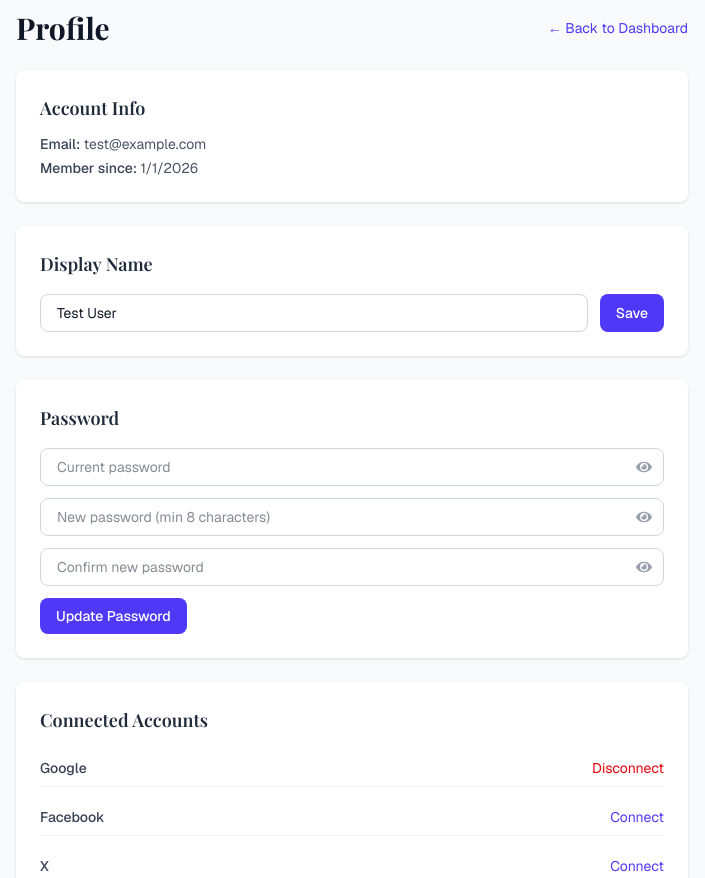
it: ProfilePage › clears name message when typing
Check: the field with placeholder "Your display name" is shown, box top-left (40, 294), bottom-right (588, 332)
Click the button "Save" at (632, 313), box top-left (600, 294), bottom-right (664, 332)
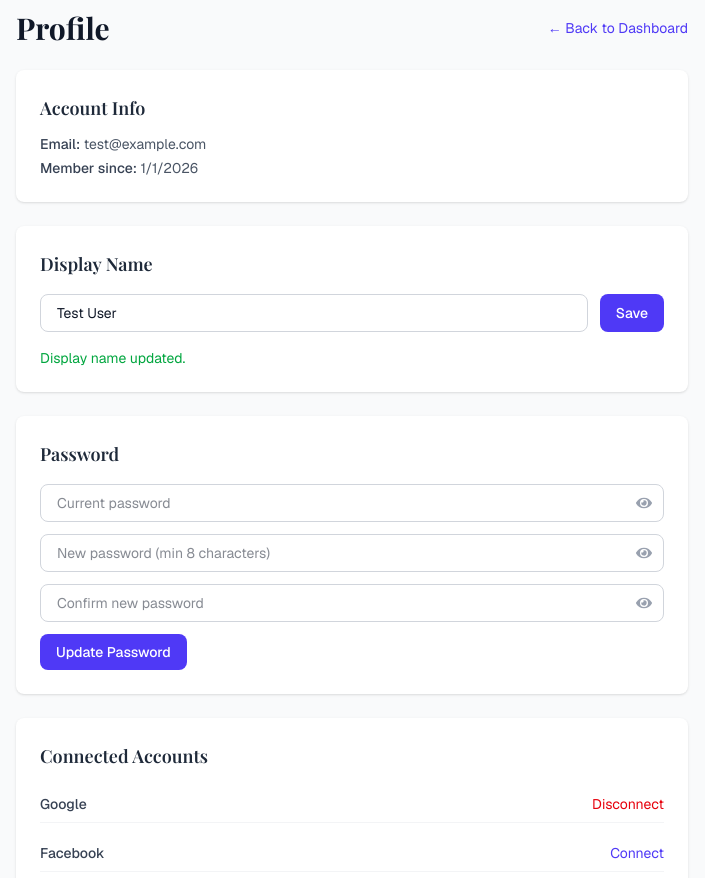
Check: the text "Display name updated." is shown, box top-left (40, 349), bottom-right (185, 367)
Type "x" into the field with placeholder "Your display name" at (314, 313), box top-left (40, 294), bottom-right (588, 332)
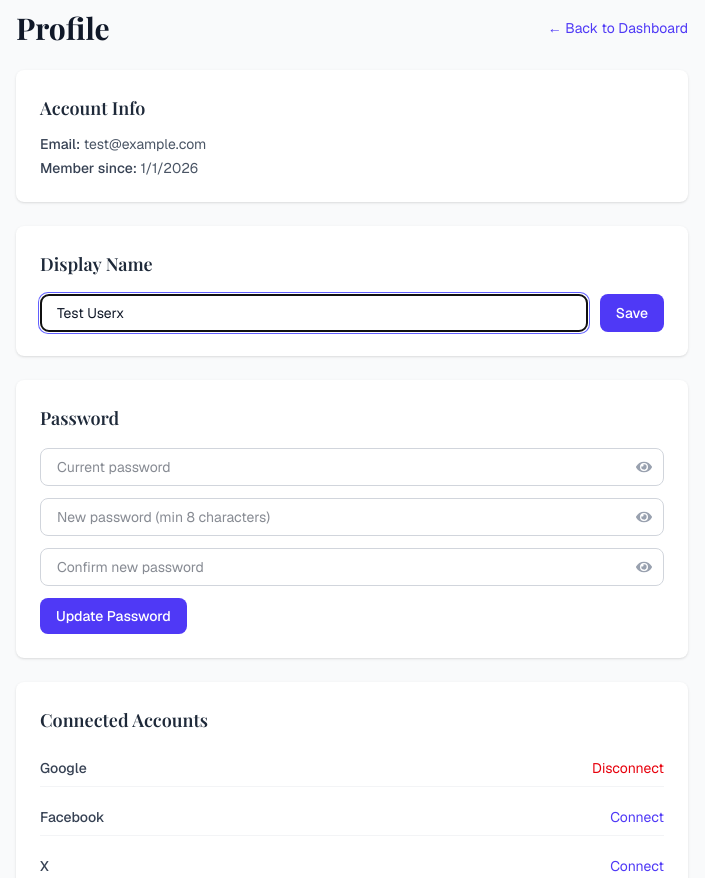
Check: the text "Display name updated" is gone
